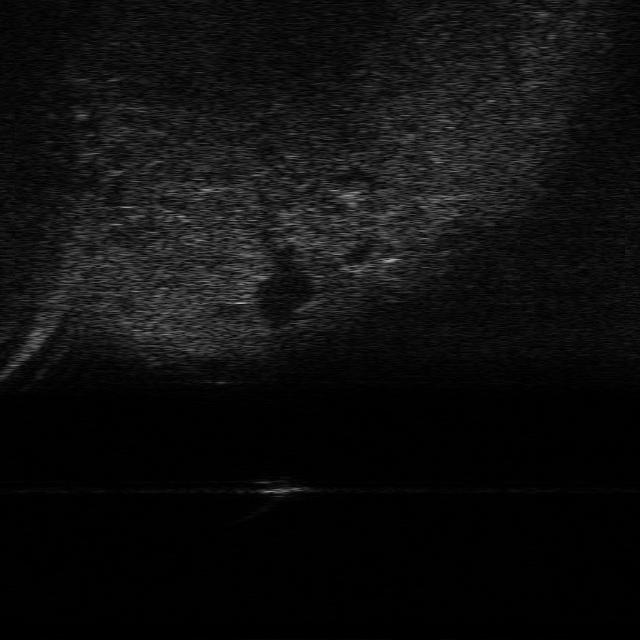cube: (259, 475, 311, 493)
